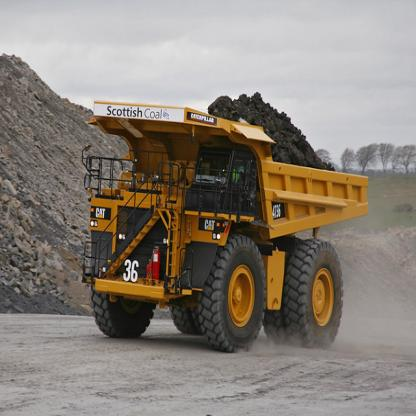dump_truck: (83, 87, 373, 358)
